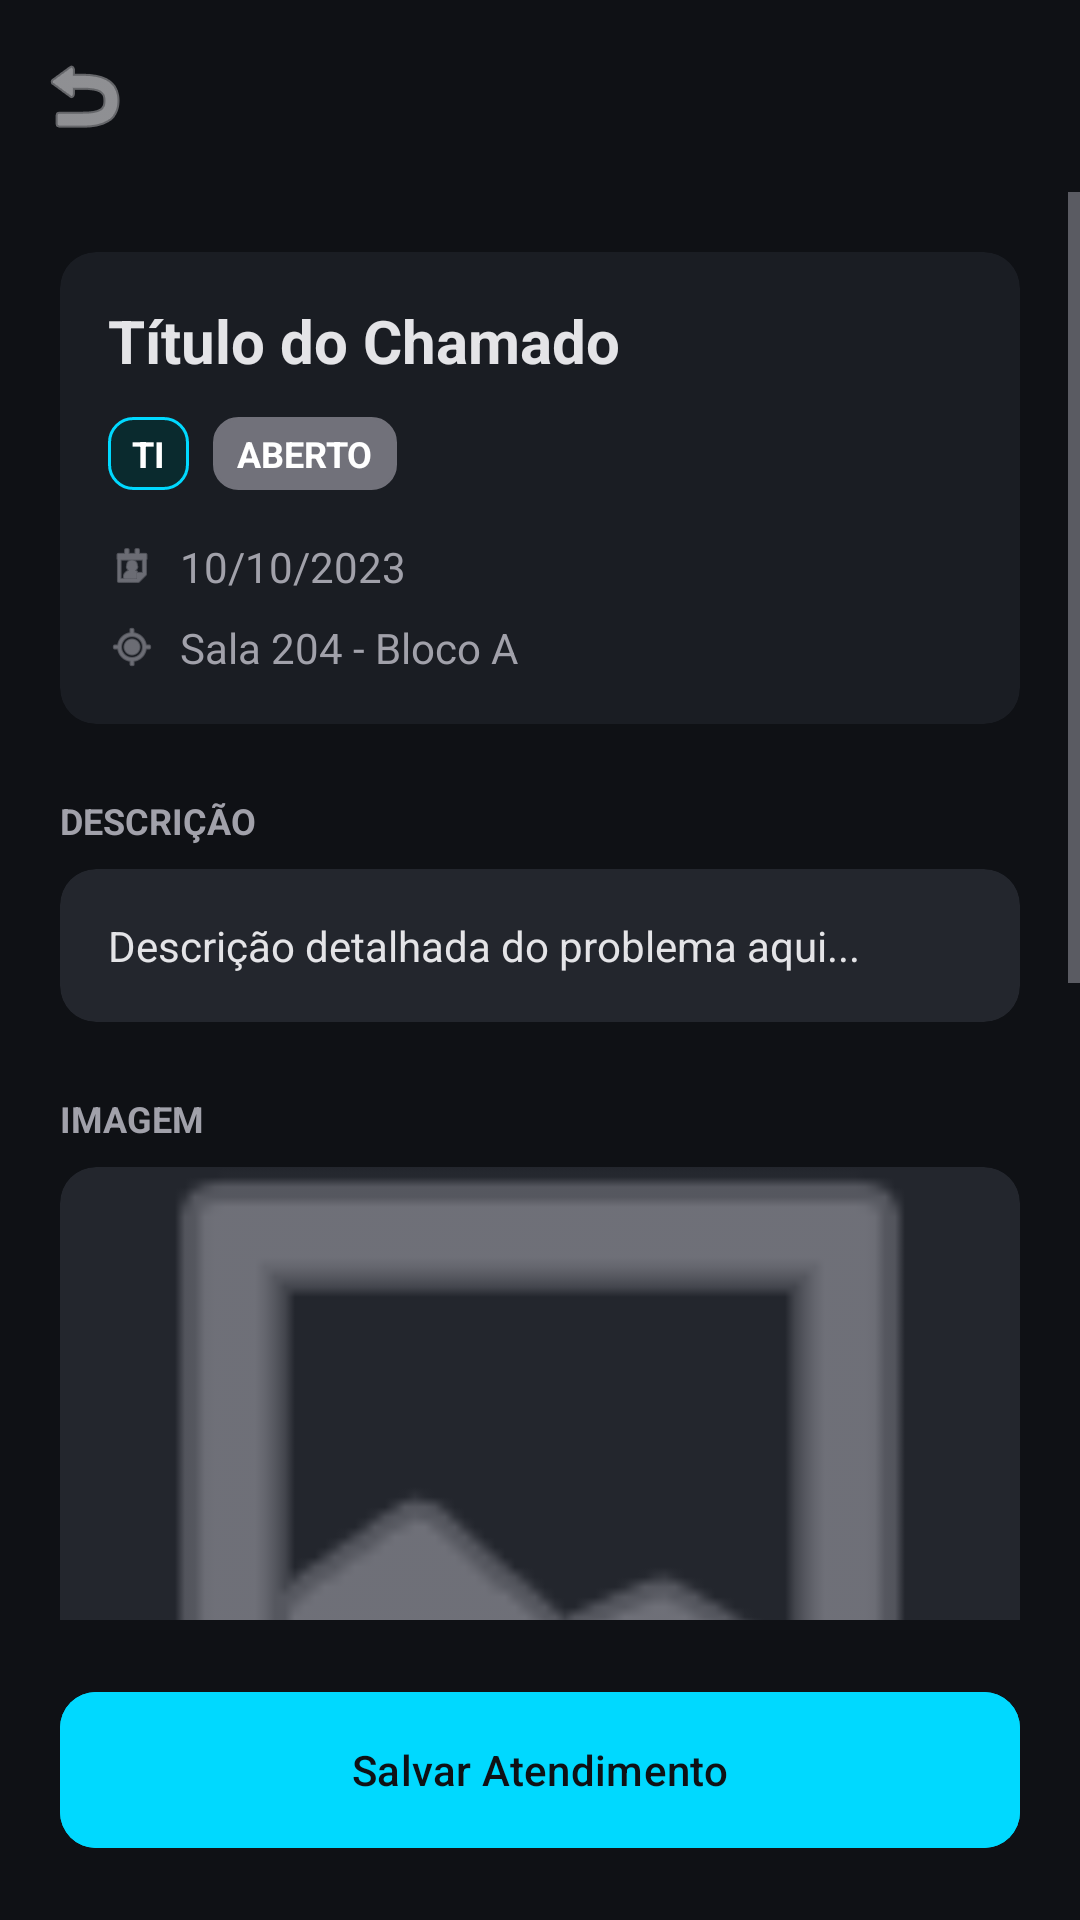

Named icons in this screenshot (1080x1920) and their bounding boxes, box(x1, y1, x2, y2):
calendar: box(116, 548, 148, 583)
mylocation: box(113, 628, 151, 666)
